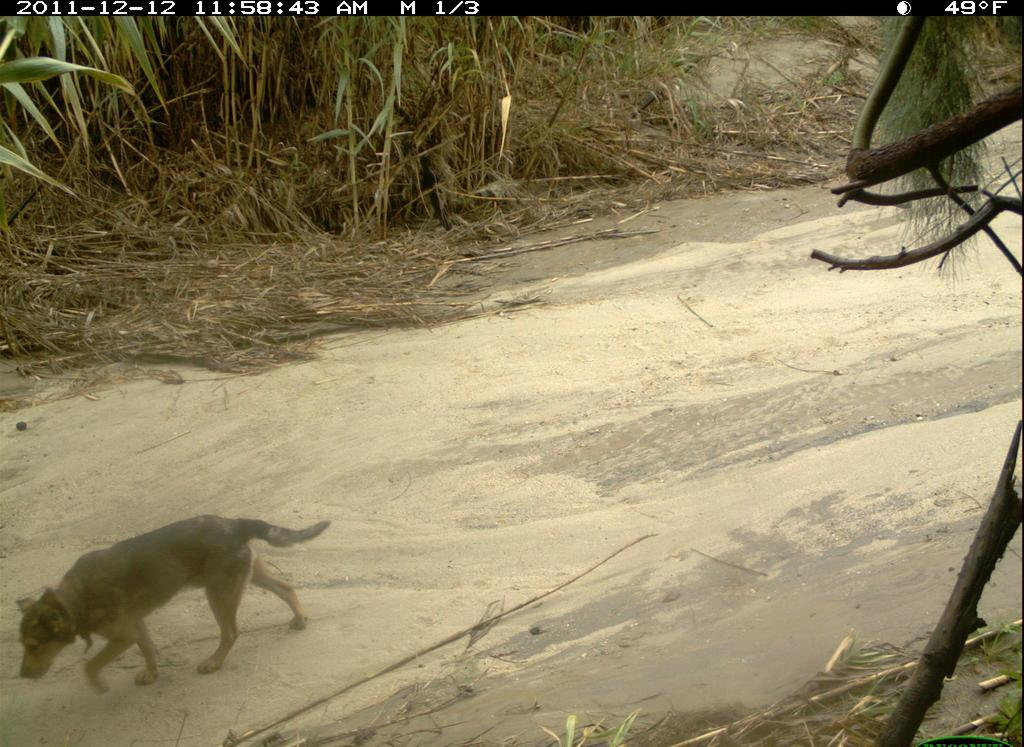dog: (7, 507, 336, 703)
